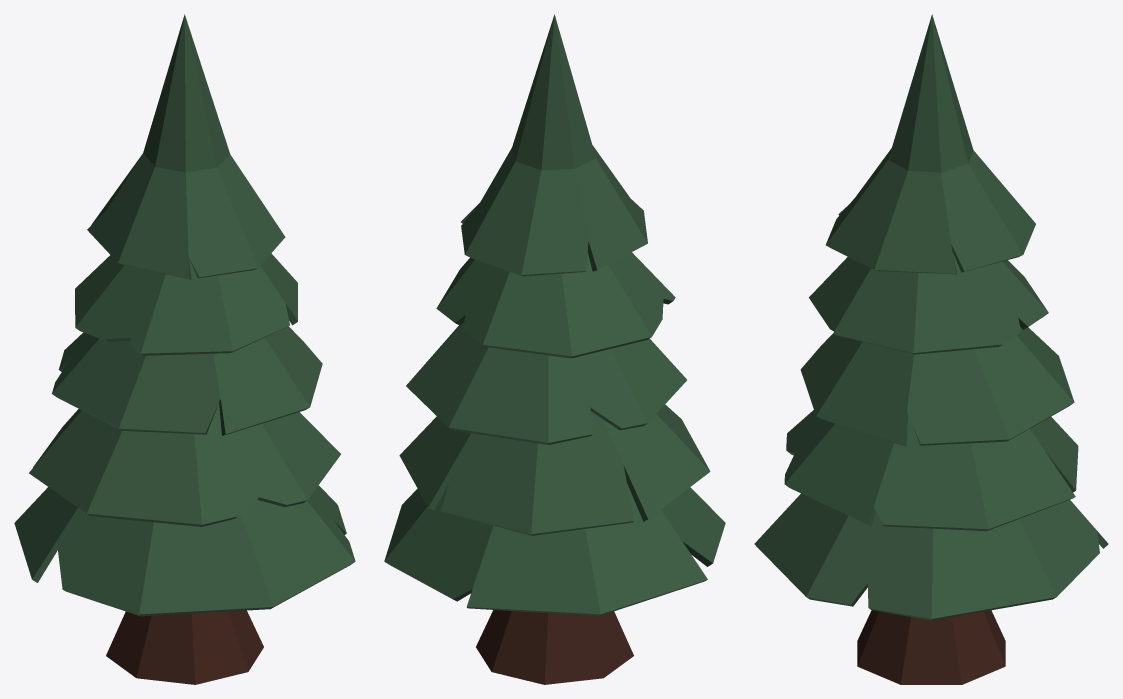
The model's file is Tree.fbx.
3 renders of one model, left to right at view 1: azimuth 30°, elevation 25°; view 2: azimuth 150°, elevation 25°; view 3: azimuth 270°, elevation 25°, orthographic.
Visible parts, largest first — view 1: Tree; view 2: Tree; view 3: Tree.
Part boxes in pixels (x1=…): Tree: x1=14, y1=14, x2=355, y2=684; Tree: x1=384, y1=14, x2=725, y2=684; Tree: x1=754, y1=14, x2=1108, y2=684.
Size of the model in its own units: 280 by 558 by 280.
